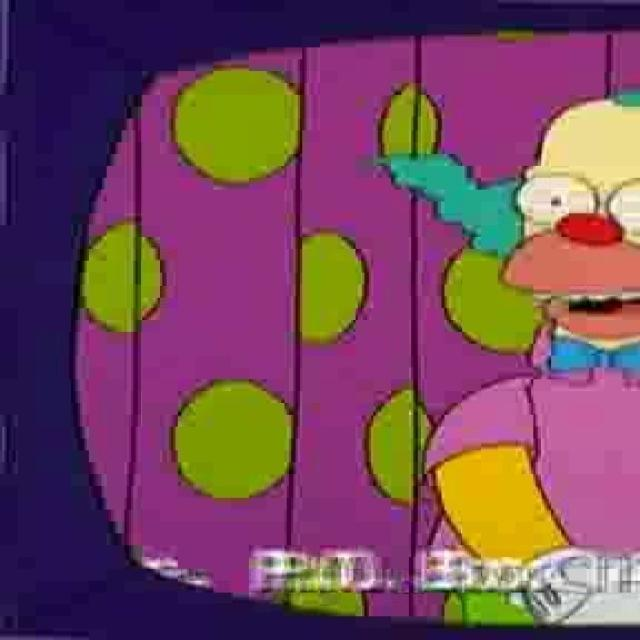Krusty the Clown: (378, 86, 640, 355)
